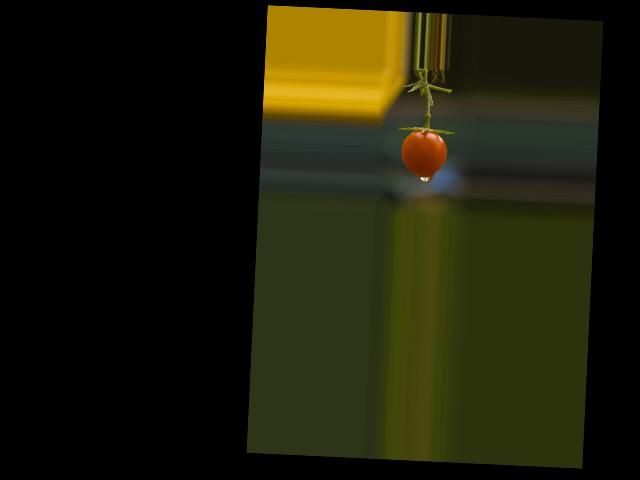tomato: (400, 129, 448, 176)
